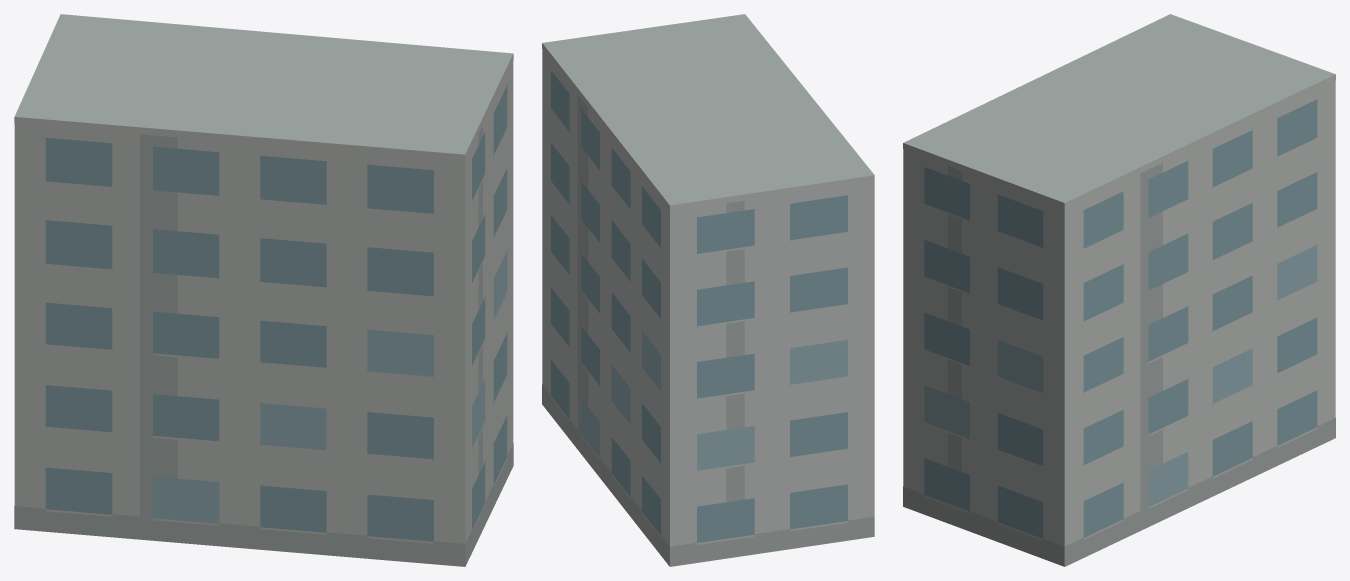
The model's file is survey-upis-32997298.glb.
3 renders of one model, left to right at view 1: azimuth 30°, elevation 25°; view 2: azimuth 150°, elevation 25°; view 3: azimuth 270°, elevation 25°, orthographic. The views are drawn at different scales.
Parts seen in each view (by area): view 1: survey-upis-32997298.tmp; view 2: survey-upis-32997298.tmp; view 3: survey-upis-32997298.tmp.
Part boxes in pixels (box(x1,y1,x2,y2)): survey-upis-32997298.tmp: box(14, 14, 513, 566); survey-upis-32997298.tmp: box(542, 14, 874, 566); survey-upis-32997298.tmp: box(903, 14, 1335, 566).
Size of the model in its own units: 15.89 by 14.25 by 15.37.
